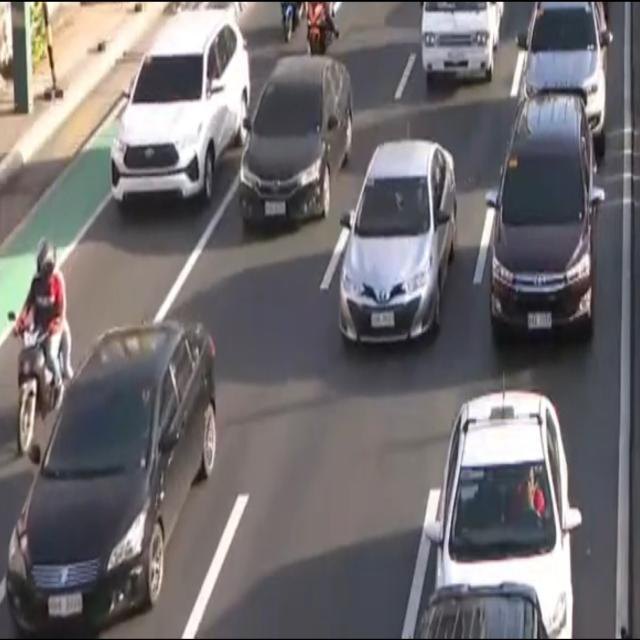Motorcycle: (10, 237, 72, 457), (303, 0, 342, 57)
SUV: (481, 93, 602, 335), (101, 19, 250, 214)
Sedan: (3, 320, 222, 640), (426, 386, 583, 640), (337, 140, 458, 350), (238, 54, 358, 233)
